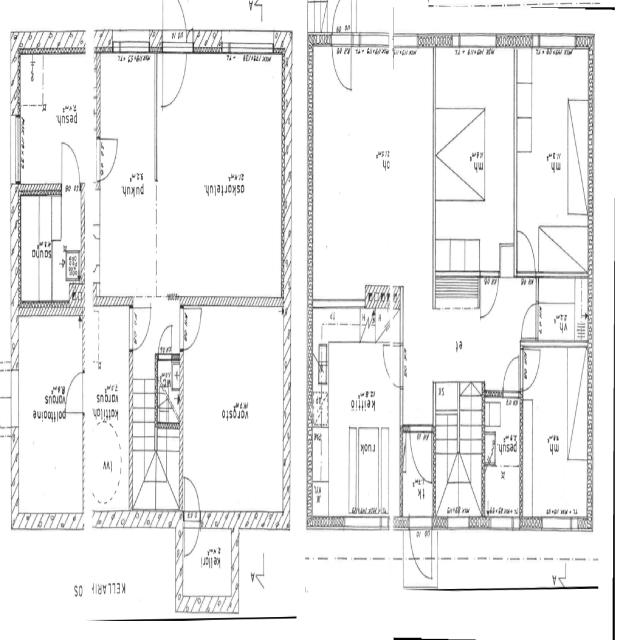door: (15, 298, 82, 530), (161, 35, 188, 112), (406, 422, 435, 483), (408, 517, 434, 584), (330, 25, 353, 93), (478, 262, 501, 322), (381, 337, 406, 392), (129, 301, 153, 355), (514, 224, 537, 279), (58, 140, 82, 192), (180, 301, 203, 354), (64, 366, 86, 416), (520, 342, 541, 394), (501, 349, 522, 400), (520, 296, 540, 346), (181, 472, 201, 515), (0, 386, 13, 437), (158, 321, 174, 357)
window: (222, 30, 276, 59), (115, 32, 152, 57), (539, 512, 574, 538), (487, 510, 514, 532)
zone: (157, 44, 286, 303), (311, 50, 436, 294), (179, 305, 288, 527), (434, 40, 516, 282), (514, 34, 592, 274), (308, 329, 402, 524), (15, 298, 84, 537), (97, 44, 158, 304), (522, 341, 591, 527), (83, 296, 136, 526), (17, 43, 96, 187), (179, 524, 236, 618), (132, 436, 182, 530), (50, 182, 86, 302), (534, 274, 590, 344), (20, 192, 54, 302), (483, 391, 522, 466), (482, 461, 522, 529), (156, 354, 182, 432)
